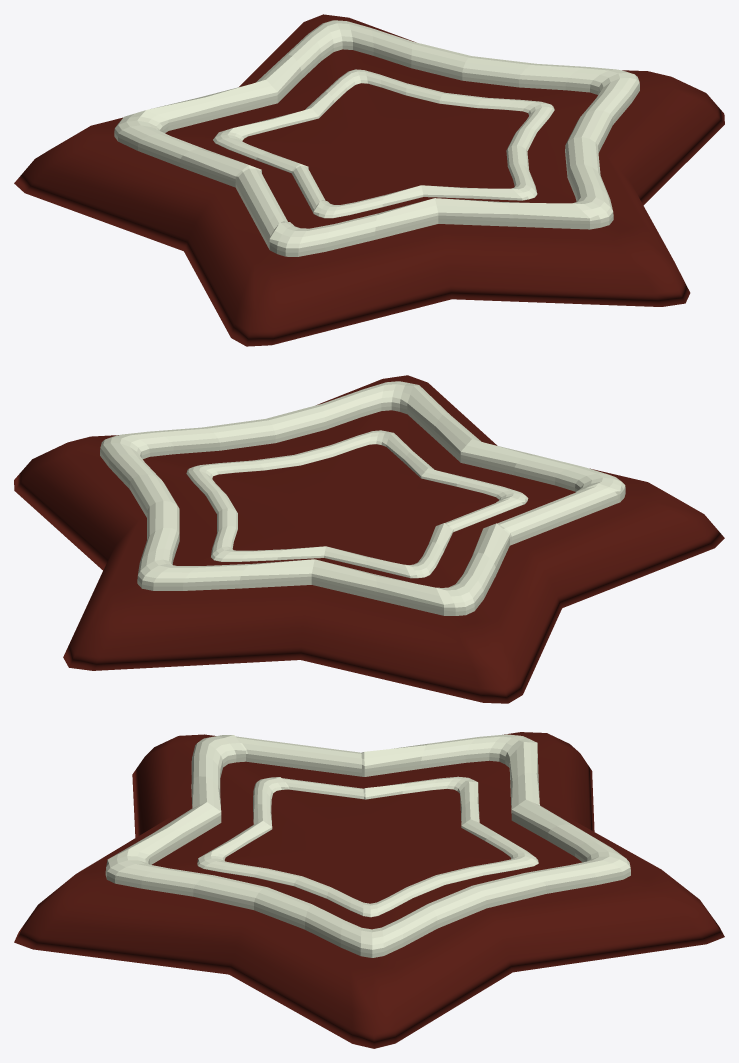
The model's file is cookie03.fbx.
3 views of the same model, one above another, from view 1: azimuth 30°, elevation 25°; view 2: azimuth 150°, elevation 25°; view 3: azimuth 270°, elevation 25° (orthographic). The views are drawn at different scales.
Visible parts, largest first — view 1: cookie03; view 2: cookie03; view 3: cookie03.
Part boxes in pixels (x1=…): cookie03: x1=14, y1=14, x2=724, y2=346; cookie03: x1=14, y1=375, x2=724, y2=703; cookie03: x1=14, y1=732, x2=724, y2=1048.
Bounding box in the file's own units: 55.09 × 6.09 × 57.39.
